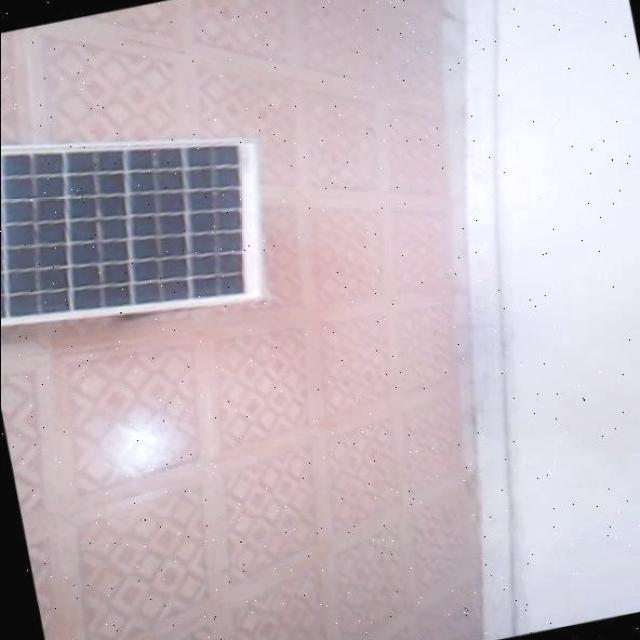Normal Solar Panel: (0, 87, 285, 356)
